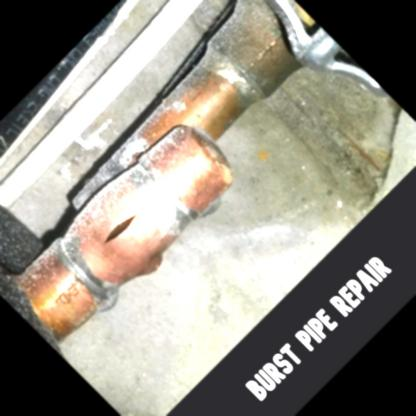burst: (104, 206, 137, 252)
